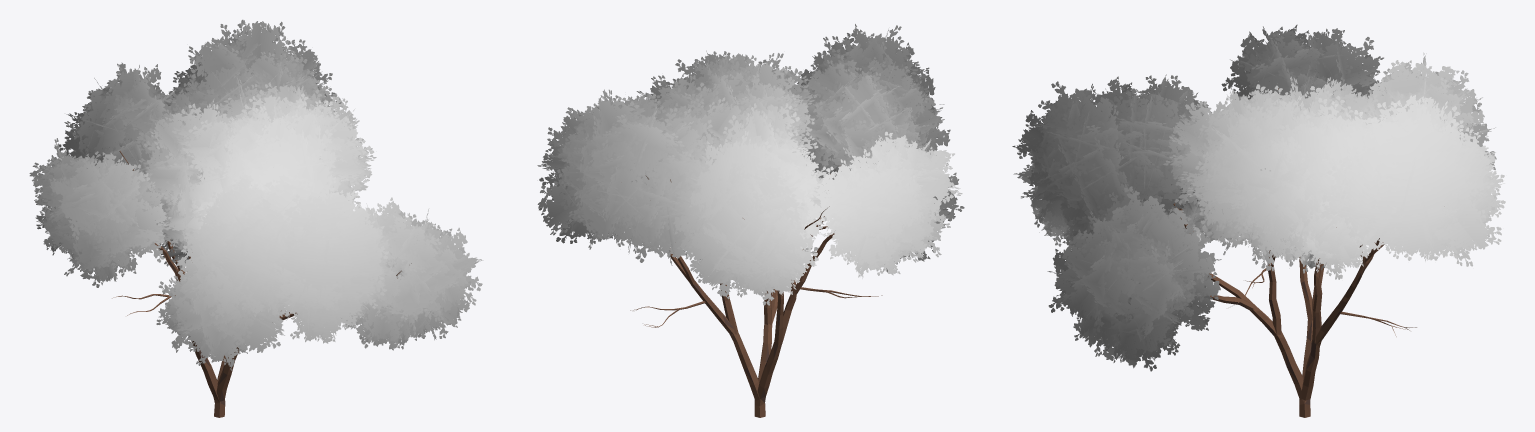
Rendered from mesh_tree_oak_03.fbx.
3 renders of one model, left to right at view 1: azimuth 30°, elevation 25°; view 2: azimuth 150°, elevation 25°; view 3: azimuth 270°, elevation 25°, orthographic. The views are drawn at different scales.
Visible parts, largest first — view 1: mesh_tree_oak_03_leaves, mesh_tree_oak_03_trunk_LOD0; view 2: mesh_tree_oak_03_leaves, mesh_tree_oak_03_trunk_LOD0; view 3: mesh_tree_oak_03_leaves, mesh_tree_oak_03_trunk_LOD0.
Part boxes in pixels (x1,y1,x2,y2): mesh_tree_oak_03_leaves: (29,19,483,370); mesh_tree_oak_03_trunk_LOD0: (112,151,411,417); mesh_tree_oak_03_leaves: (537,24,964,305); mesh_tree_oak_03_trunk_LOD0: (630,165,882,417); mesh_tree_oak_03_leaves: (1012,24,1505,371); mesh_tree_oak_03_trunk_LOD0: (1173,88,1416,417).
Size of what is drawn, in the model's own units: 10.53 by 9.44 by 12.16.
